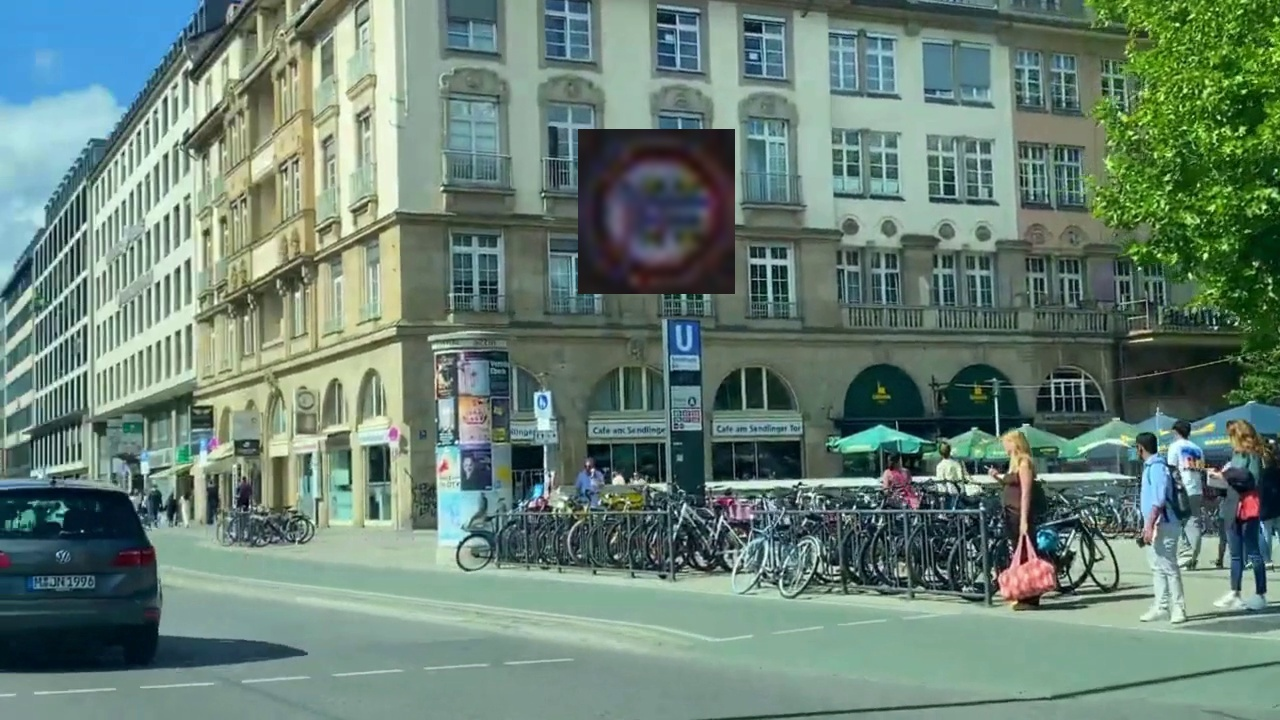Speed 100: (578, 129, 735, 294)
